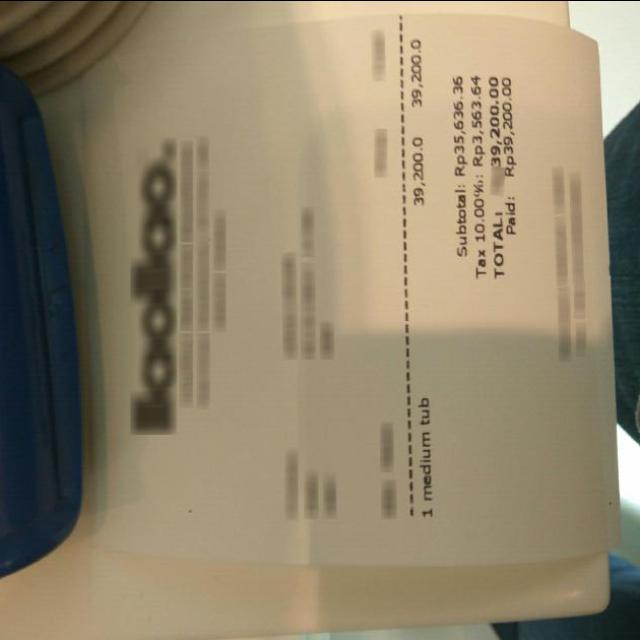kertas: (86, 6, 620, 569)
